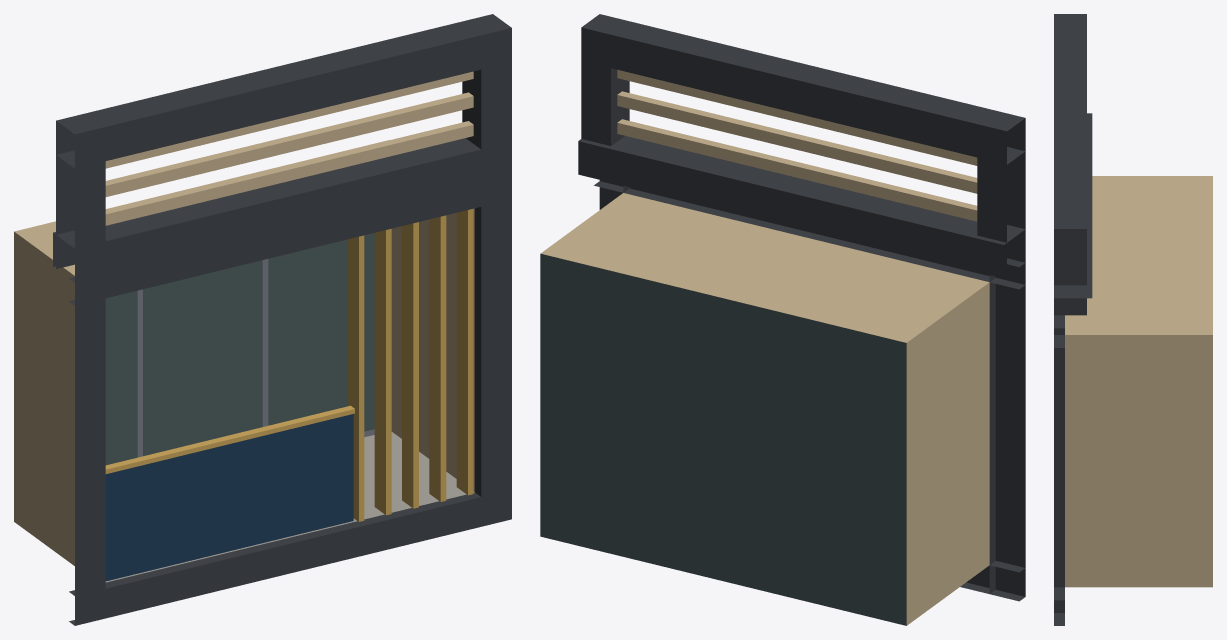
File: top-w1.fbx
3 renders of one model, left to right at view 1: azimuth 30°, elevation 25°; view 2: azimuth 150°, elevation 25°; view 3: azimuth 270°, elevation 25°, orthographic. The views are drawn at different scales.
Parts seen in each view (by area): view 1: a2019/750/top-w1; view 2: a2019/750/top-w1; view 3: a2019/750/top-w1.
Boxes of the visible parts, box(x1,y1,x2,y2) form: a2019/750/top-w1: box(14, 14, 511, 625); a2019/750/top-w1: box(540, 14, 1025, 625); a2019/750/top-w1: box(1054, 14, 1212, 625).
Bounding box in the file's own units: 4 × 4.3 × 1.45.
